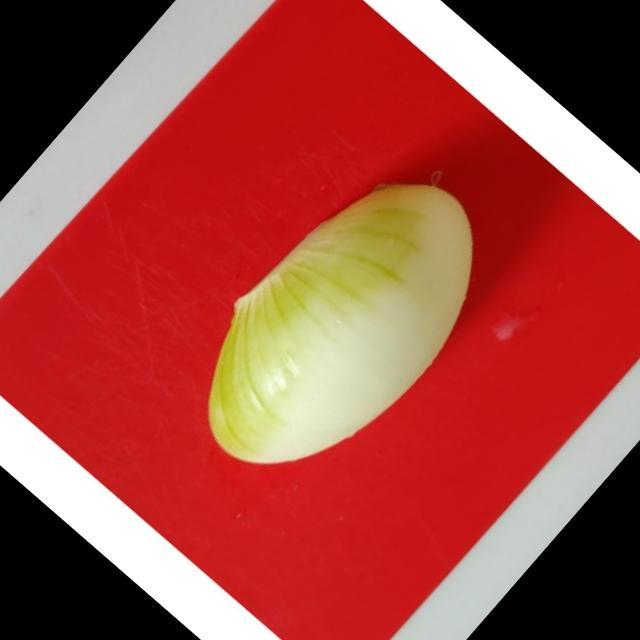Onion: (211, 186, 474, 464)
